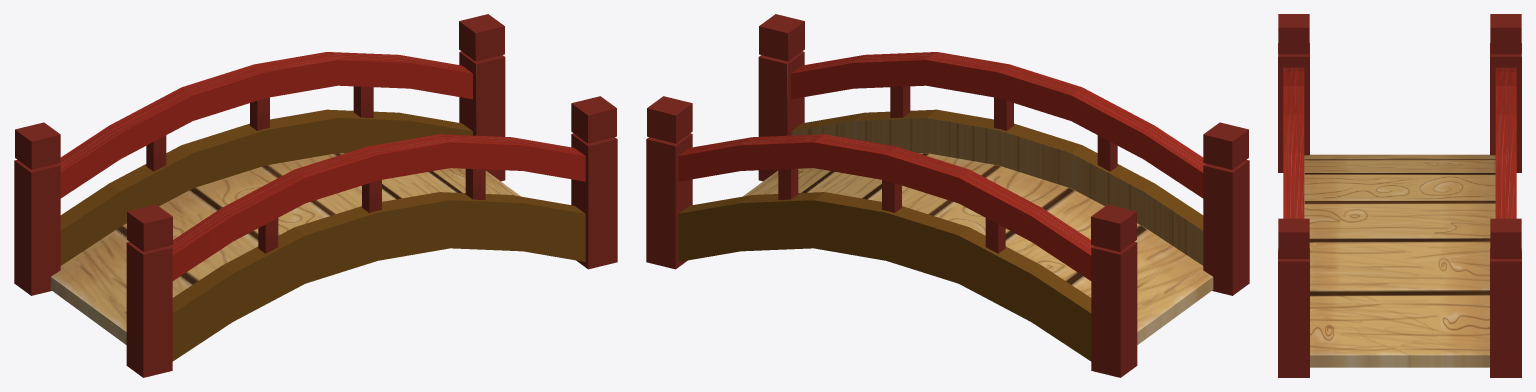
File: Bridge.fbx
3 views of the same model, side by side, from view 1: azimuth 30°, elevation 25°; view 2: azimuth 150°, elevation 25°; view 3: azimuth 270°, elevation 25° (orthographic). The views are drawn at different scales.
Visible parts, largest first — view 1: Plane, Cube.010, Cube.004; view 2: Plane, Cube.010, Cube.004; view 3: Plane, Cube.010.
Boxes of the visible parts, x1,y1,x2,y2 form: Plane: [50, 52, 585, 361]; Cube.010: [14, 14, 617, 377]; Cube.004: [146, 86, 485, 253]; Plane: [678, 52, 1213, 361]; Cube.010: [646, 14, 1249, 377]; Cube.004: [778, 86, 1117, 253]; Plane: [1283, 67, 1516, 367]; Cube.010: [1278, 14, 1521, 377].
Size of the model in its own units: 865 by 285 by 407.
1 material, 1 textured.
